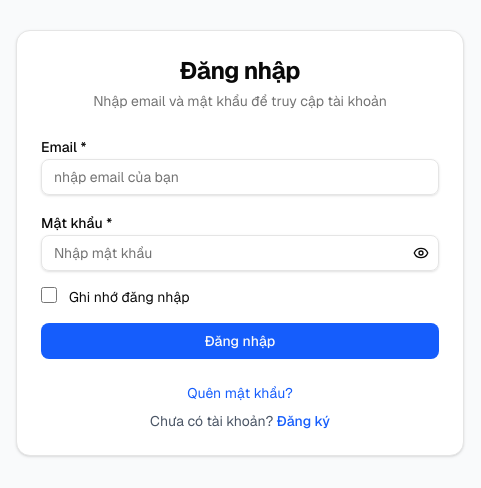
Test: LoginPage › validates password field
Step 1. Type "test@example.com" into the field labelled "Email *" → (240, 177), box left=41, top=159, right=439, bottom=195
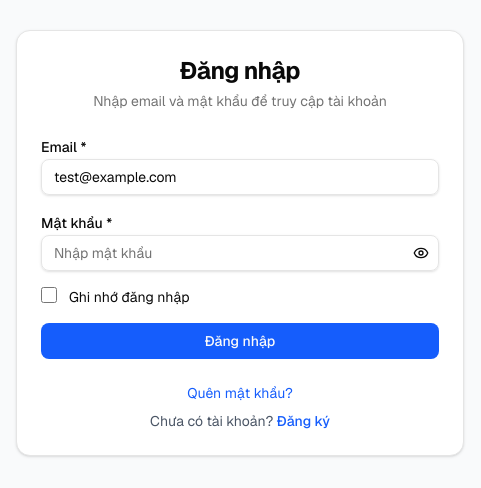
Step 2. Click the button "Đăng nhập" → (240, 341), box left=41, top=323, right=439, bottom=359
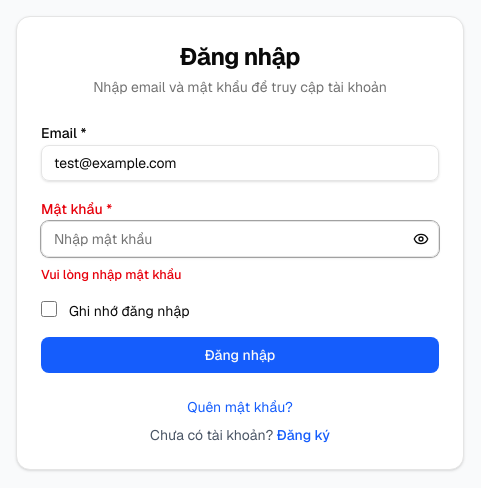
Expected: the text "Vui lòng nhập mật khẩu" is shown, left=41, top=266, right=182, bottom=283
